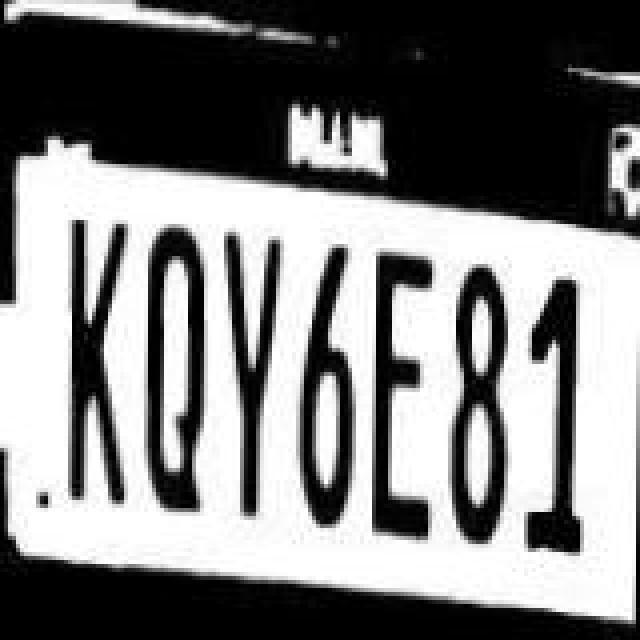1: (514, 276, 586, 556)
6: (286, 242, 358, 530)
8: (442, 260, 514, 540)
E: (368, 252, 444, 540)
K: (54, 204, 130, 516)
Q: (138, 220, 214, 532)
Y: (218, 234, 286, 518)
